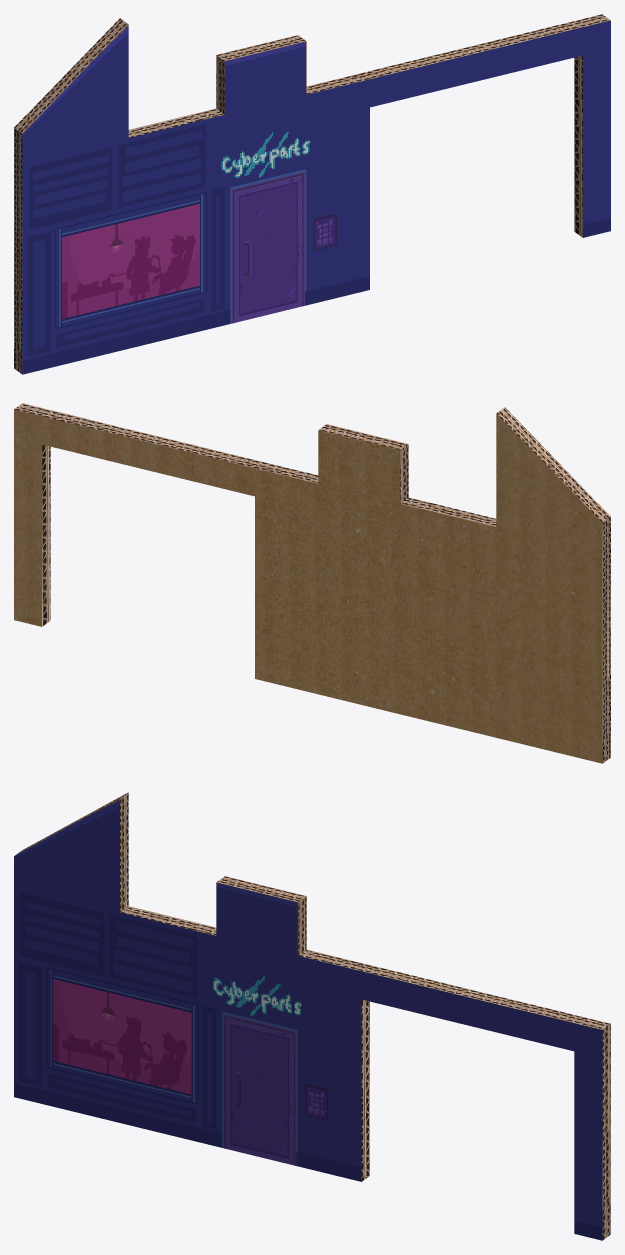
Rendered from building3.gltf.
3 views of the same model, one above another, from view 1: azimuth 30°, elevation 25°; view 2: azimuth 150°, elevation 25°; view 3: azimuth 330°, elevation 25° (orthographic).
Visible parts, largest first — view 1: building3; view 2: building3; view 3: building3.
Part boxes in pixels (x1,y1,x2,y2): building3: [14, 14, 610, 374]; building3: [14, 403, 610, 763]; building3: [14, 792, 610, 1240].
Size of the model in its own units: 1.63 by 0.8607 by 0.0408.
